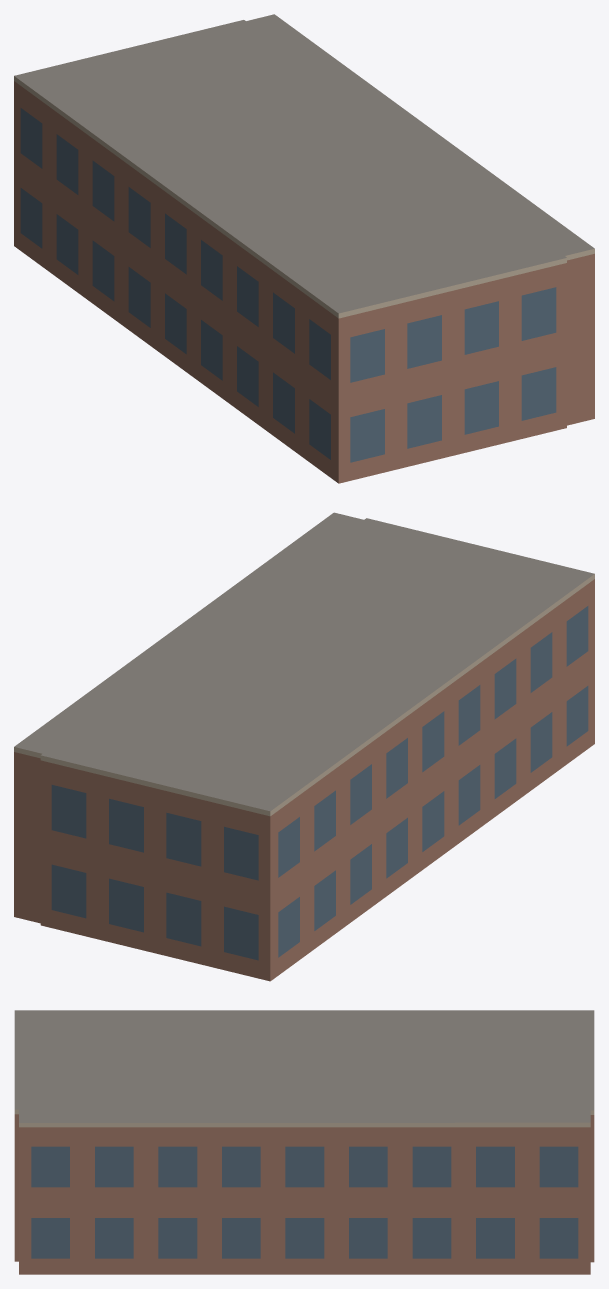
Rendered from dc-au-kreeger-building.glb.
3 views of the same model, one above another, from view 1: azimuth 30°, elevation 25°; view 2: azimuth 150°, elevation 25°; view 3: azimuth 270°, elevation 25° (orthographic). The views are drawn at different scales.
Parts seen in each view (by area): view 1: Kreeger Building; view 2: Kreeger Building; view 3: Kreeger Building.
Boxes of the visible parts, x1,y1,x2,y2 form: Kreeger Building: [14, 14, 594, 483]; Kreeger Building: [14, 512, 594, 981]; Kreeger Building: [14, 1010, 594, 1274].
Size of the model in its own units: 17.26 by 10.8 by 37.43.
